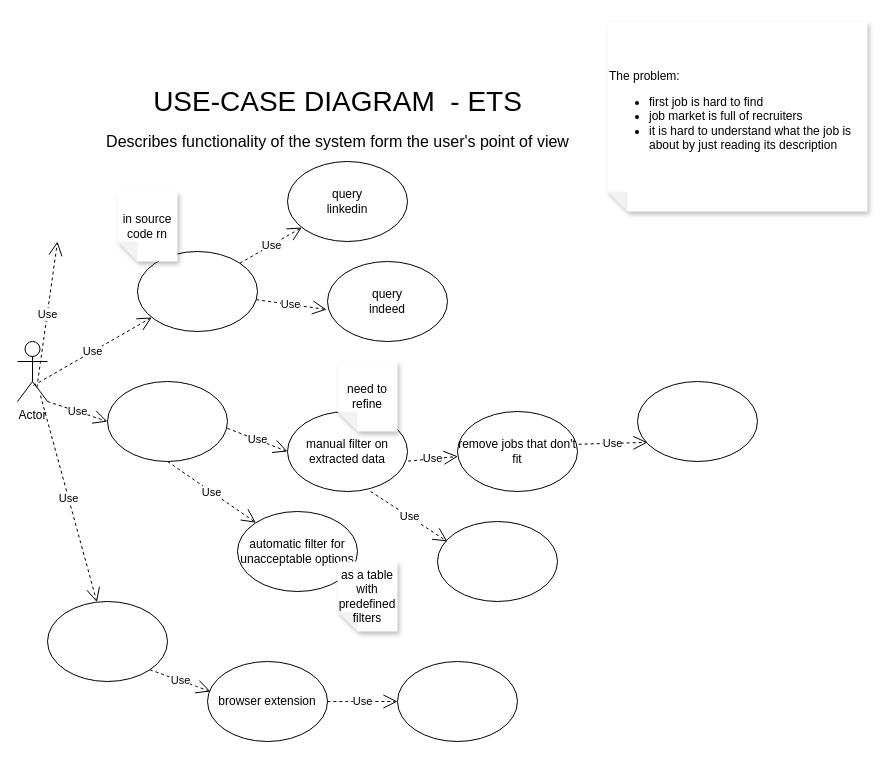
Image size: 891x759. Some labels were removed from this diagram. The shapes that lost their labels are listed below. From the top down, each one's centre as x and y in pixels, then its label:
At [197,291]: "query jobs".
At [167,421]: "select jobs worth applying".
At [697,421]: "delete jobs".
At [497,561]: "see info about company".
At [107,641]: "auto apply".
At [457,701]: "chrome browser".
